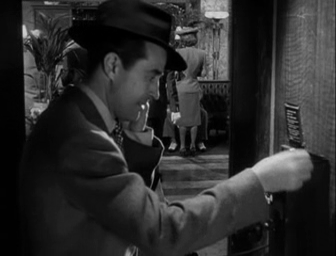face: (120, 57, 167, 122)
mcu: (1, 1, 336, 256)
person: (16, 1, 314, 256), (175, 26, 206, 157)
